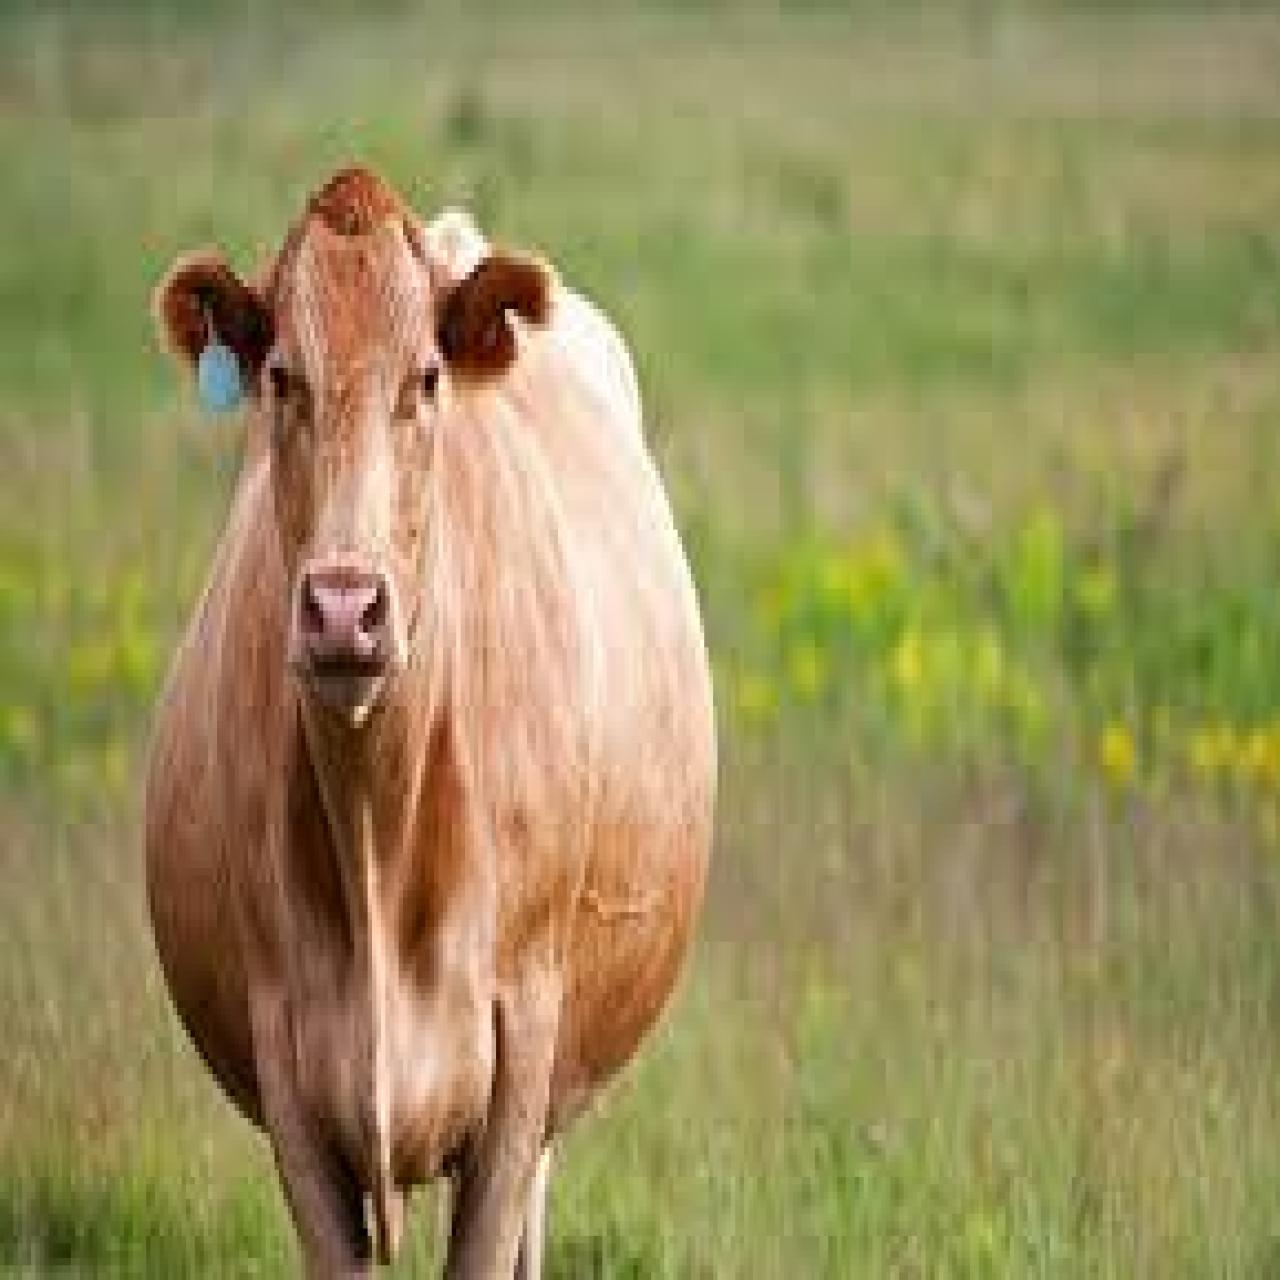cow: (140, 162, 720, 1280)
